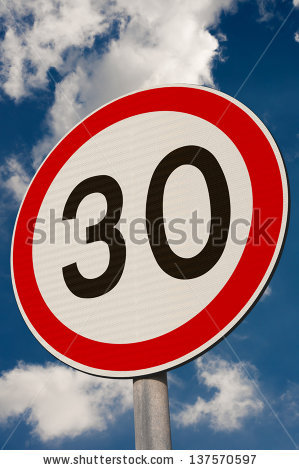Speed_limit_30km: (13, 85, 290, 379)
